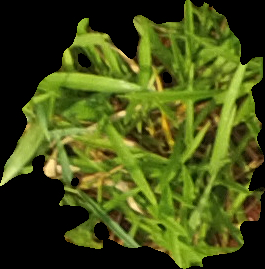grass: (1, 1, 264, 267)
